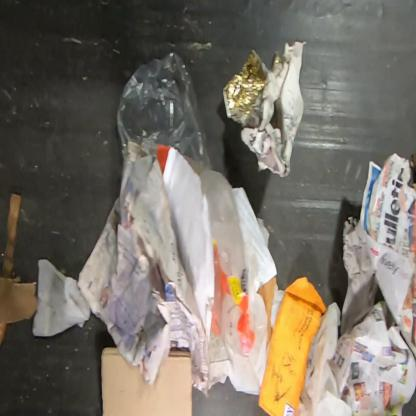cardboard: (101, 348, 195, 415)
soft_plastic: (116, 51, 261, 362)
